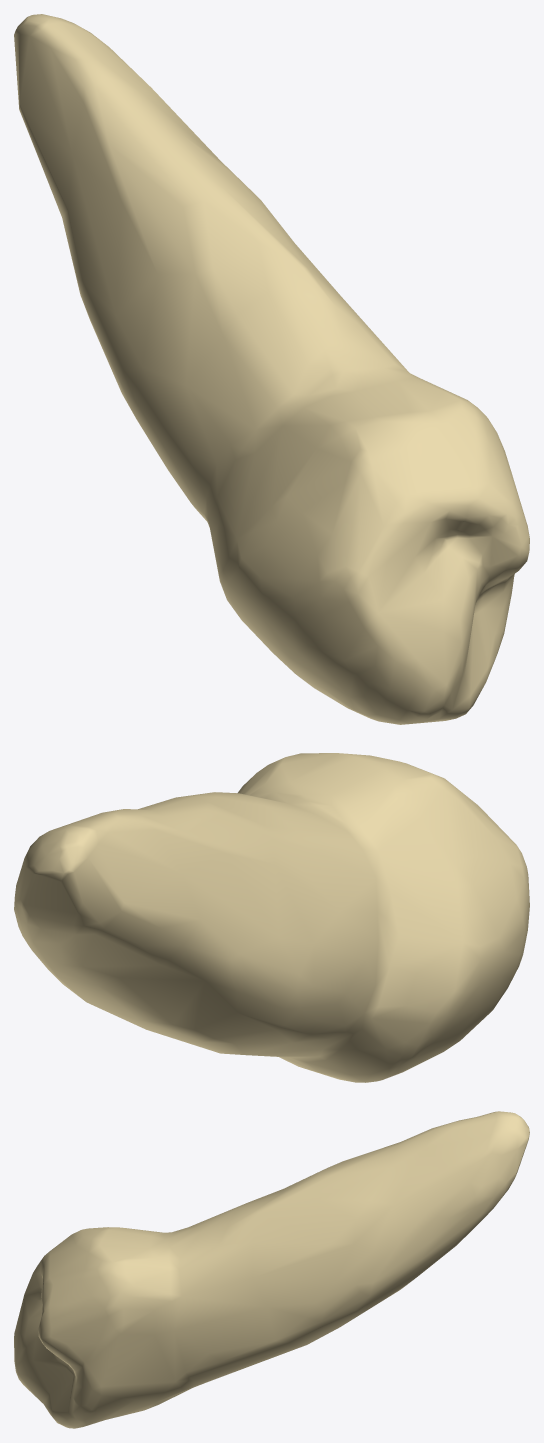
3 renders of one model, top to bottom at view 1: azimuth 30°, elevation 25°; view 2: azimuth 150°, elevation 25°; view 3: azimuth 270°, elevation 25°, orthographic. The views are drawn at different scales.
Visible parts, largest first — view 1: 右侧下颌第一前磨牙; view 2: 右侧下颌第一前磨牙; view 3: 右侧下颌第一前磨牙.
Boxes of the visible parts, x1,y1,x2,y2 form: 右侧下颌第一前磨牙: (14,14,529,724); 右侧下颌第一前磨牙: (14,753,529,1082); 右侧下颌第一前磨牙: (14,1111,529,1428).
Bounding box in the file's own units: 0.0115 × 0.0204 × 0.0324.
